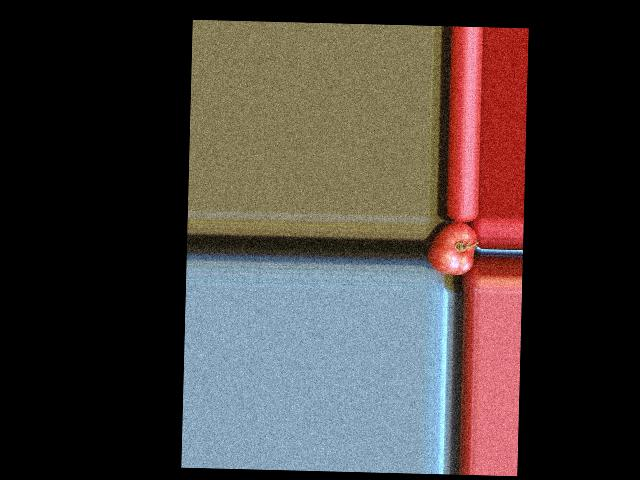tomato: (427, 221, 476, 275)
